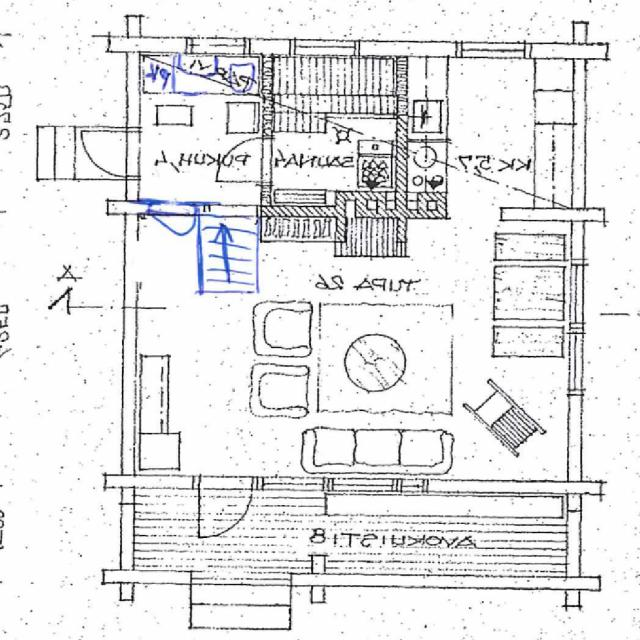door: (200, 476, 253, 541), (148, 206, 198, 264), (218, 138, 274, 180)
